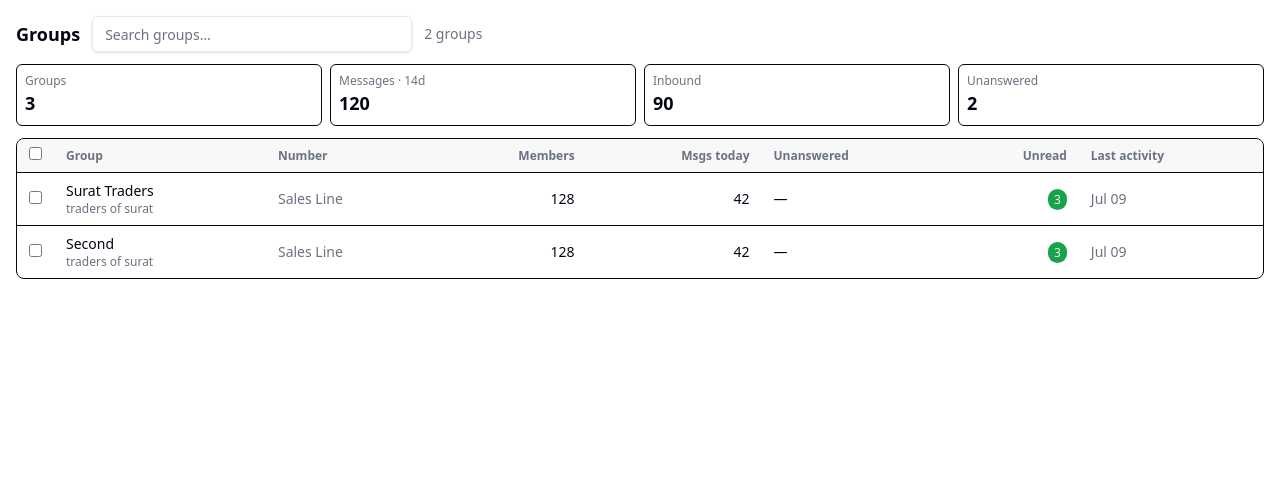
Scenario: GroupsPage › bulk message dialog sends to the selected groups
The width and height of the screenshot is (1280, 482).
Click the checkbox named "Select all groups".
click(36, 154)  # box [29,147,42,160]
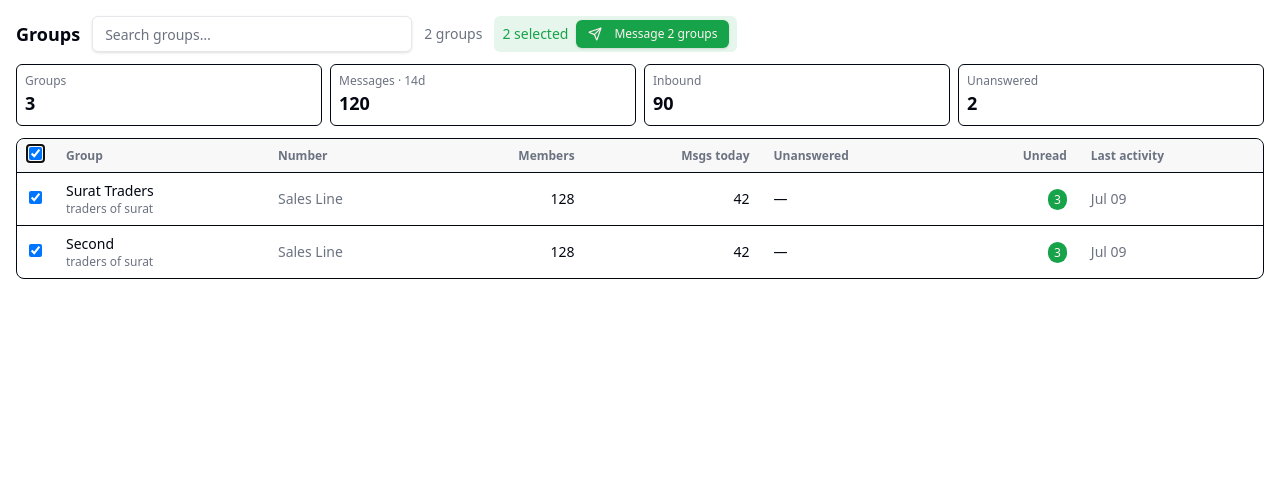
Click the button "Message 2 groups".
click(653, 34)  # box [576,20,730,48]
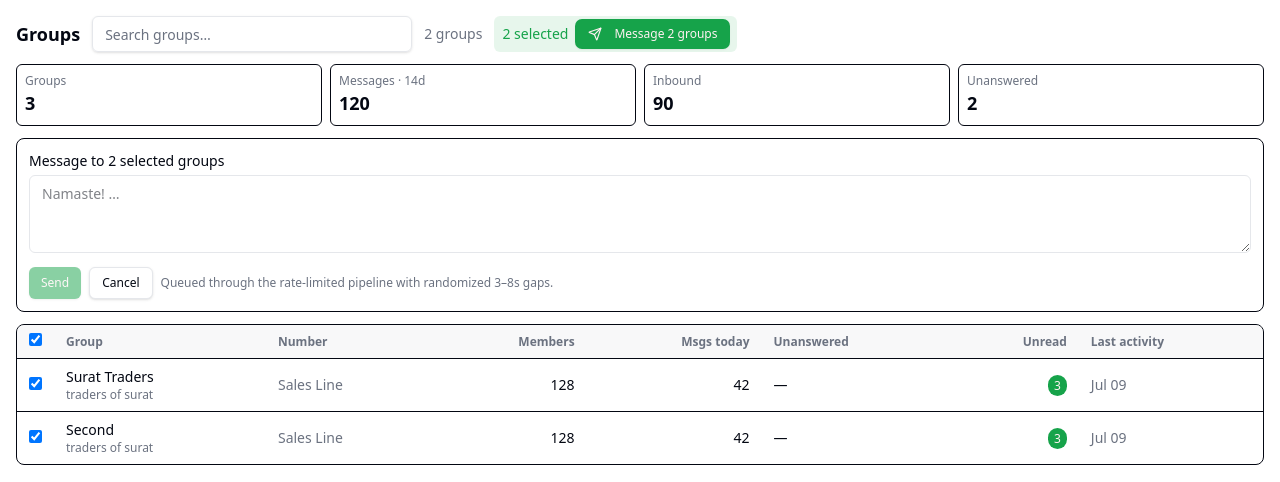
Type "diwali offer 10% off" into the text box labelled "Message to 2 selected groups".
click(640, 214); type("diwali offer 10% off")  # box [29,175,1251,253]
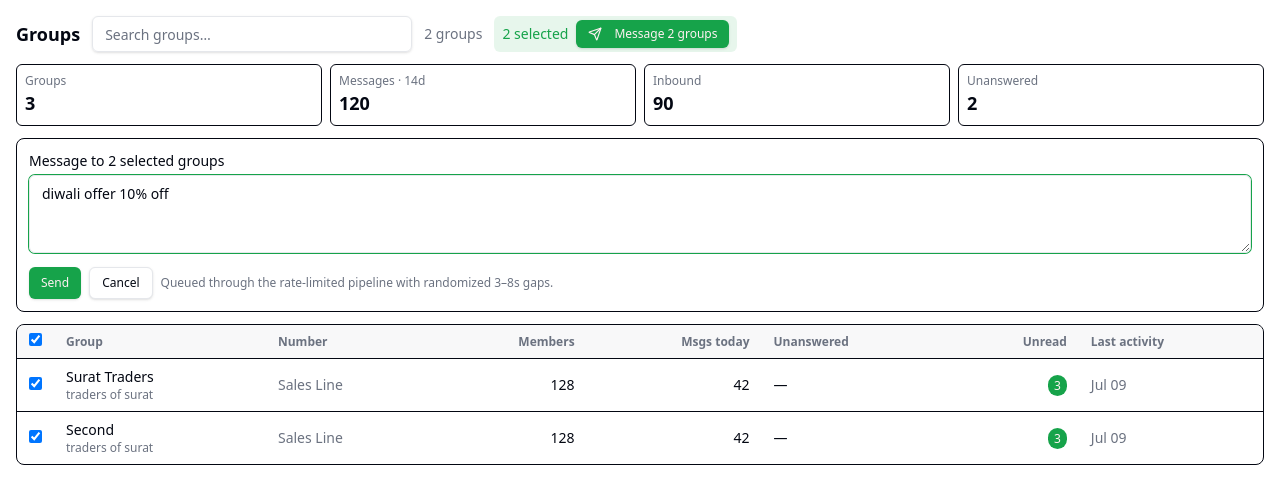
Click the button "Send".
click(55, 283)  # box [29,267,81,299]
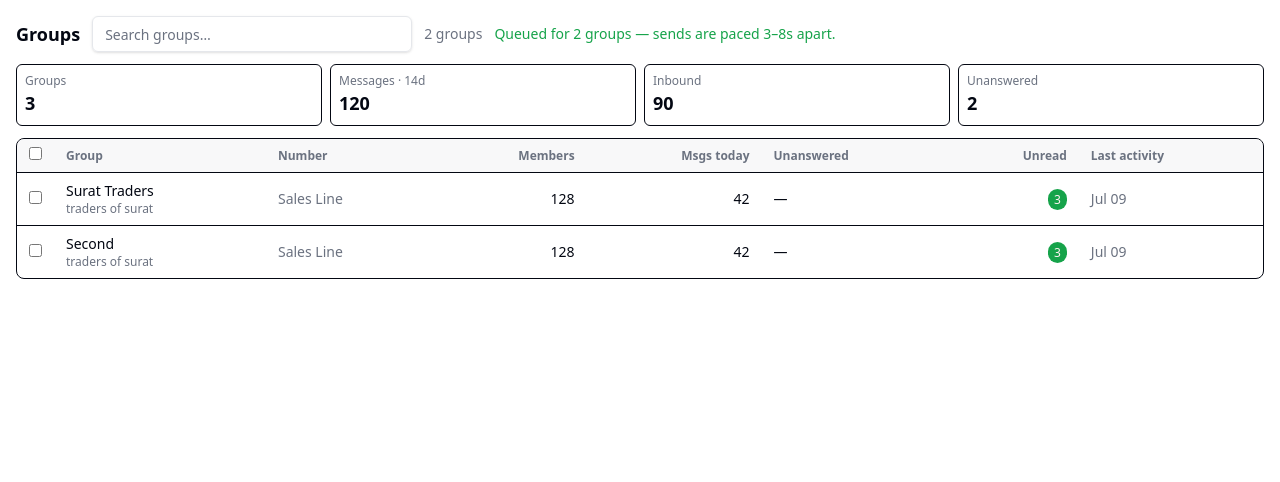
Expected: the text with test id "bulk-result" shows "Queued for 2 groups", [494,24,836,43]
Expected: the element with test id "bulk-dialog" is gone
